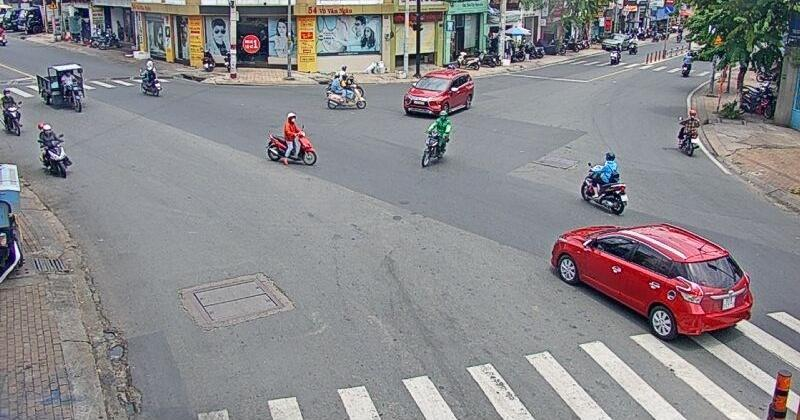xe hoi: (544, 223, 755, 340), (404, 74, 472, 118)
xe may: (578, 151, 625, 212), (268, 112, 314, 170), (34, 64, 87, 113), (414, 112, 456, 169), (36, 122, 72, 178), (326, 70, 366, 112), (673, 110, 701, 157), (137, 60, 161, 98)
